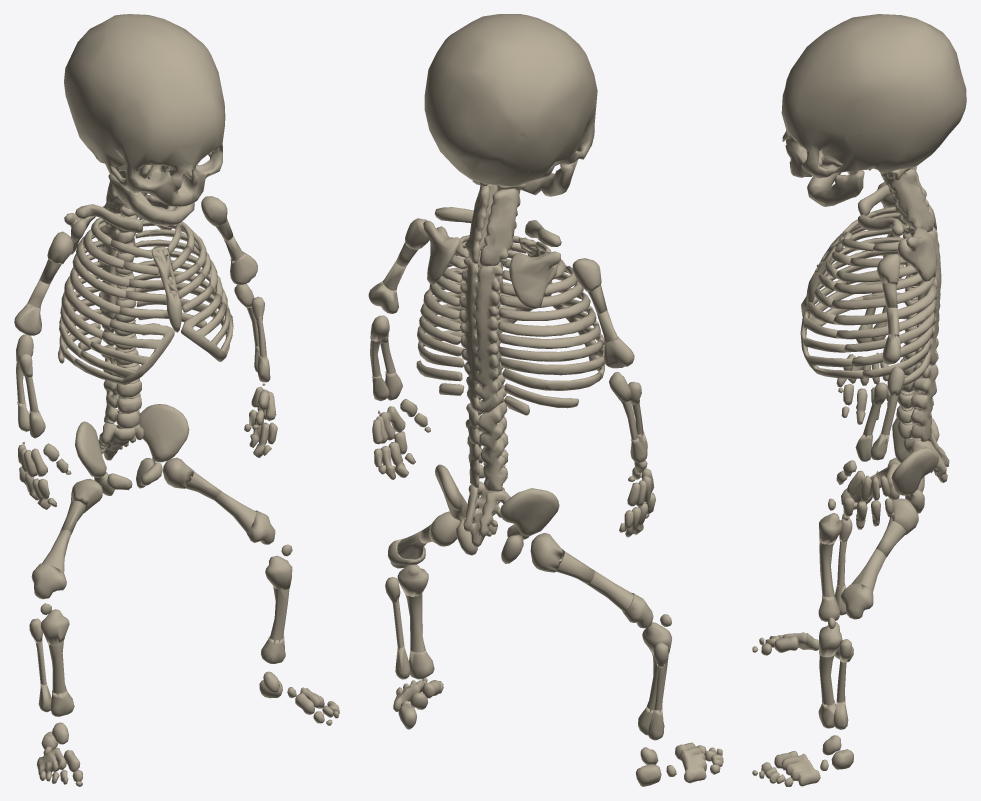
The model's file is pediatric_neonate_male.skeletal.LOD2.glb.
The picture shows the model from 3 angles, left to right: view 1: azimuth 30°, elevation 25°; view 2: azimuth 150°, elevation 25°; view 3: azimuth 270°, elevation 25°; orthographic projection. The views are drawn at different scales.
Visible parts, largest first — view 1: PEDIATRIC.NEONATE.MALE.SKELETAL.CARTILAGE_TRUNK, PEDIATRIC.NEONATE.MALE.SKELETAL.CARTILAGE_HEAD, PEDIATRIC.NEONATE.MALE.SKELETAL.CARTILAGE_LEGS, PEDIATRIC.NEONATE.MALE.SKELETAL.CARTILAGE_ARMS, PEDIATRIC.NEONATE.MALE.SKELETAL.RIBS_CORTICAL, PEDIATRIC.NEONATE.MALE.SKELETAL.FEMORA_LOWER_CORTICAL, PEDIATRIC.NEONATE.MALE.SKELETAL.TIBIAE_CORTICAL, PEDIATRIC.NEONATE.MALE.SKELETAL.FEMORA_UPPER_CORTICAL, PEDIATRIC.NEONATE.MALE.SKELETAL.HUMERI_LOWER_CORTICAL, PEDIATRIC.NEONATE.MALE.SKELETAL.RADII_CORTICAL; view 2: PEDIATRIC.NEONATE.MALE.SKELETAL.CARTILAGE_TRUNK, PEDIATRIC.NEONATE.MALE.SKELETAL.CARTILAGE_HEAD, PEDIATRIC.NEONATE.MALE.SKELETAL.CARTILAGE_LEGS, PEDIATRIC.NEONATE.MALE.SKELETAL.CARTILAGE_ARMS, PEDIATRIC.NEONATE.MALE.SKELETAL.RIBS_CORTICAL, PEDIATRIC.NEONATE.MALE.SKELETAL.FEMORA_LOWER_CORTICAL, PEDIATRIC.NEONATE.MALE.SKELETAL.TIBIAE_CORTICAL, PEDIATRIC.NEONATE.MALE.SKELETAL.FEMORA_UPPER_CORTICAL, PEDIATRIC.NEONATE.MALE.SKELETAL.HUMERI_LOWER_CORTICAL, PEDIATRIC.NEONATE.MALE.SKELETAL.FIBULAE_CORTICAL, PEDIATRIC.NEONATE.MALE.SKELETAL.ULNAE_CORTICAL, PEDIATRIC.NEONATE.MALE.SKELETAL.HUMERI_UPPER_CORTICAL; view 3: PEDIATRIC.NEONATE.MALE.SKELETAL.CARTILAGE_HEAD, PEDIATRIC.NEONATE.MALE.SKELETAL.CARTILAGE_TRUNK, PEDIATRIC.NEONATE.MALE.SKELETAL.CARTILAGE_LEGS, PEDIATRIC.NEONATE.MALE.SKELETAL.CARTILAGE_ARMS, PEDIATRIC.NEONATE.MALE.SKELETAL.TIBIAE_CORTICAL, PEDIATRIC.NEONATE.MALE.SKELETAL.RIBS_CORTICAL, PEDIATRIC.NEONATE.MALE.SKELETAL.FEMORA_LOWER_CORTICAL, PEDIATRIC.NEONATE.MALE.SKELETAL.FIBULAE_CORTICAL, PEDIATRIC.NEONATE.MALE.SKELETAL.FEMORA_UPPER_CORTICAL, PEDIATRIC.NEONATE.MALE.SKELETAL.RADII_CORTICAL, PEDIATRIC.NEONATE.MALE.SKELETAL.ULNAE_CORTICAL.
Boxes of the visible parts, x1=… form: PEDIATRIC.NEONATE.MALE.SKELETAL.CARTILAGE_TRUNK: x1=58, y1=170, x2=233, y2=495; PEDIATRIC.NEONATE.MALE.SKELETAL.CARTILAGE_HEAD: x1=64, y1=14, x2=225, y2=226; PEDIATRIC.NEONATE.MALE.SKELETAL.CARTILAGE_LEGS: x1=29, y1=457, x2=339, y2=786; PEDIATRIC.NEONATE.MALE.SKELETAL.CARTILAGE_ARMS: x1=14, y1=196, x2=277, y2=509; PEDIATRIC.NEONATE.MALE.SKELETAL.RIBS_CORTICAL: x1=58, y1=206, x2=224, y2=364; PEDIATRIC.NEONATE.MALE.SKELETAL.FEMORA_LOWER_CORTICAL: x1=42, y1=491, x2=256, y2=572; PEDIATRIC.NEONATE.MALE.SKELETAL.TIBIAE_CORTICAL: x1=48, y1=587, x2=289, y2=694; PEDIATRIC.NEONATE.MALE.SKELETAL.FEMORA_UPPER_CORTICAL: x1=60, y1=470, x2=221, y2=534; PEDIATRIC.NEONATE.MALE.SKELETAL.HUMERI_LOWER_CORTICAL: x1=27, y1=235, x2=242, y2=307; PEDIATRIC.NEONATE.MALE.SKELETAL.RADII_CORTICAL: x1=25, y1=301, x2=266, y2=412; PEDIATRIC.NEONATE.MALE.SKELETAL.CARTILAGE_TRUNK: x1=416, y1=180, x2=604, y2=563; PEDIATRIC.NEONATE.MALE.SKELETAL.CARTILAGE_HEAD: x1=424, y1=14, x2=597, y2=196; PEDIATRIC.NEONATE.MALE.SKELETAL.CARTILAGE_LEGS: x1=385, y1=511, x2=723, y2=786; PEDIATRIC.NEONATE.MALE.SKELETAL.CARTILAGE_ARMS: x1=368, y1=218, x2=655, y2=537; PEDIATRIC.NEONATE.MALE.SKELETAL.RIBS_CORTICAL: x1=417, y1=237, x2=601, y2=415; PEDIATRIC.NEONATE.MALE.SKELETAL.FEMORA_LOWER_CORTICAL: x1=397, y1=529, x2=633, y2=612; PEDIATRIC.NEONATE.MALE.SKELETAL.TIBIAE_CORTICAL: x1=405, y1=593, x2=668, y2=713; PEDIATRIC.NEONATE.MALE.SKELETAL.FEMORA_UPPER_CORTICAL: x1=419, y1=524, x2=594, y2=584; PEDIATRIC.NEONATE.MALE.SKELETAL.HUMERI_LOWER_CORTICAL: x1=383, y1=261, x2=617, y2=342; PEDIATRIC.NEONATE.MALE.SKELETAL.FIBULAE_CORTICAL: x1=392, y1=600, x2=664, y2=712; PEDIATRIC.NEONATE.MALE.SKELETAL.ULNAE_CORTICAL: x1=370, y1=340, x2=638, y2=439; PEDIATRIC.NEONATE.MALE.SKELETAL.HUMERI_UPPER_CORTICAL: x1=396, y1=242, x2=607, y2=314; PEDIATRIC.NEONATE.MALE.SKELETAL.CARTILAGE_HEAD: x1=781, y1=14, x2=966, y2=206; PEDIATRIC.NEONATE.MALE.SKELETAL.CARTILAGE_TRUNK: x1=800, y1=166, x2=949, y2=513; PEDIATRIC.NEONATE.MALE.SKELETAL.CARTILAGE_LEGS: x1=752, y1=457, x2=918, y2=786; PEDIATRIC.NEONATE.MALE.SKELETAL.CARTILAGE_ARMS: x1=836, y1=182, x2=904, y2=529; PEDIATRIC.NEONATE.MALE.SKELETAL.TIBIAE_CORTICAL: x1=819, y1=542, x2=835, y2=706; PEDIATRIC.NEONATE.MALE.SKELETAL.RIBS_CORTICAL: x1=831, y1=207, x2=936, y2=380; PEDIATRIC.NEONATE.MALE.SKELETAL.FEMORA_LOWER_CORTICAL: x1=850, y1=473, x2=886, y2=591; PEDIATRIC.NEONATE.MALE.SKELETAL.FIBULAE_CORTICAL: x1=836, y1=539, x2=847, y2=702; PEDIATRIC.NEONATE.MALE.SKELETAL.FEMORA_UPPER_CORTICAL: x1=875, y1=467, x2=905, y2=557; PEDIATRIC.NEONATE.MALE.SKELETAL.RADII_CORTICAL: x1=863, y1=292, x2=881, y2=437; PEDIATRIC.NEONATE.MALE.SKELETAL.ULNAE_CORTICAL: x1=881, y1=306, x2=898, y2=435.
Size of the model in its own units: 0.2148 by 0.477 by 0.1331.
